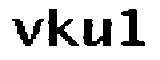1: (119, 7, 146, 48)
k: (46, 4, 81, 48)
u: (82, 14, 112, 51)
v: (8, 15, 43, 48)
